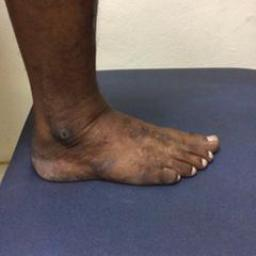Lateral View -Right Foot-: (23, 79, 226, 196)
